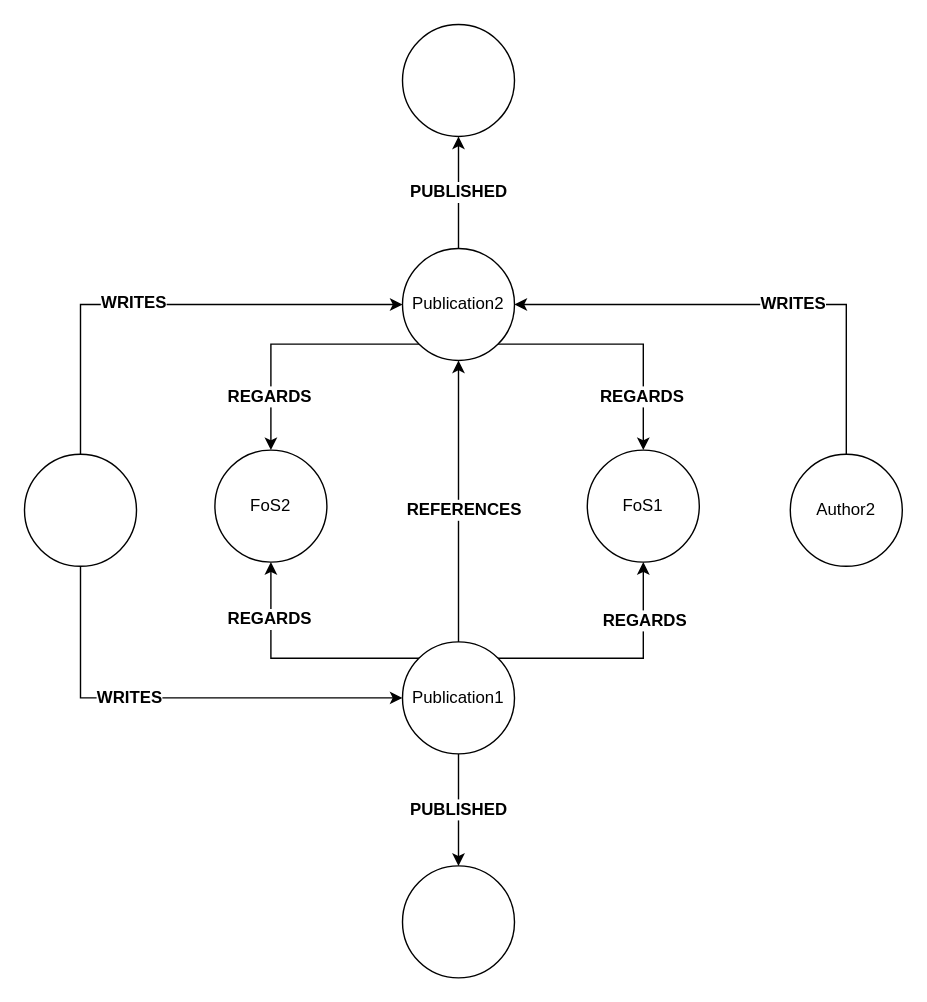
Image size: 927x1002. Some labels were removed from this diagram. The shapes that lost their labels are listed below. From the top down, each one's centre as x and y in pixels, then its label:
point 457,79: Journal
point 79,509: Author1
point 457,921: Conference
